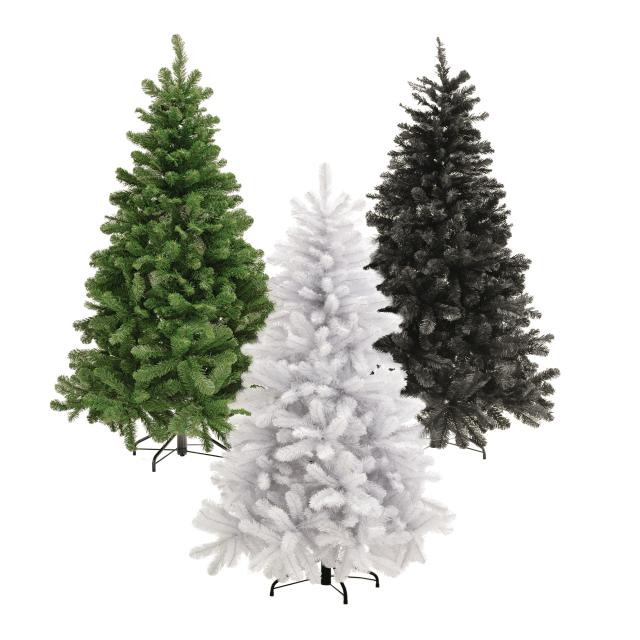Christmas-tree: (55, 16, 258, 435)
